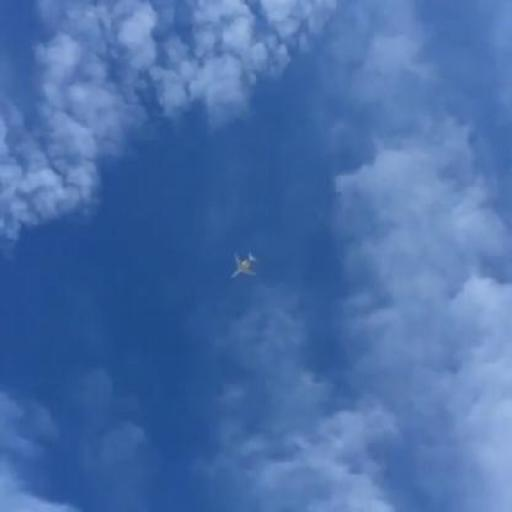aircraft: (232, 250, 258, 278)
